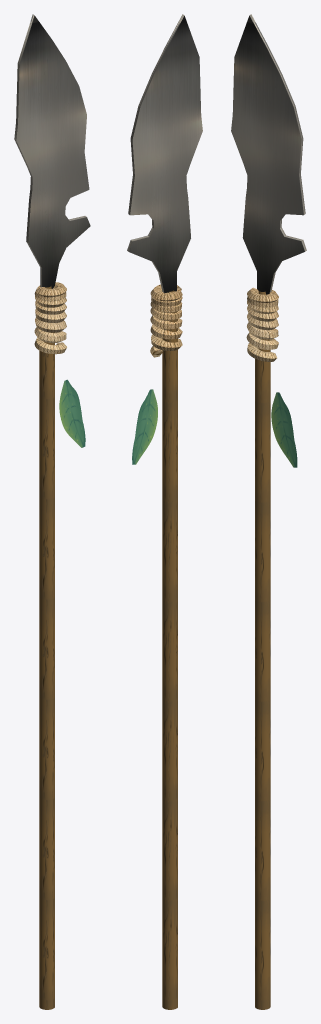
The model's file is lance.fbx.
3 renders of one model, left to right at view 1: azimuth 30°, elevation 25°; view 2: azimuth 210°, elevation 25°; view 3: azimuth 330°, elevation 25°, orthographic.
Visible parts, largest first — view 1: Lance; view 2: Lance; view 3: Lance.
Part boxes in pixels (x1,y1,x2,y2): Lance: (14, 14, 90, 1009); Lance: (127, 14, 202, 1009); Lance: (231, 14, 306, 1009).
Bounding box in the file's own units: 5.74 × 70.71 × 1.88.
Materials: 4 (4 with a texture image).
